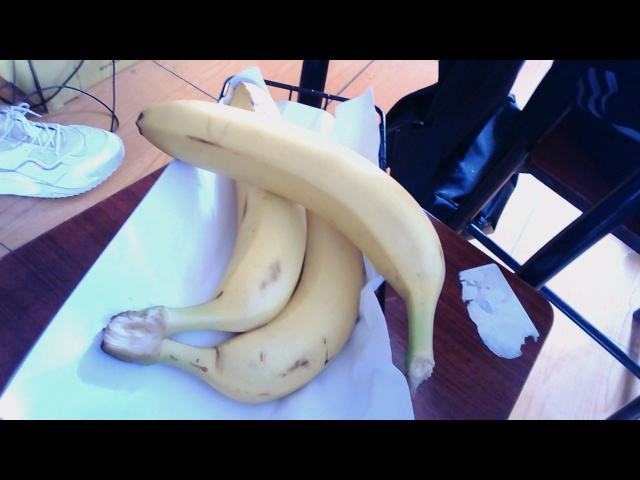banana: (136, 79, 452, 396)
